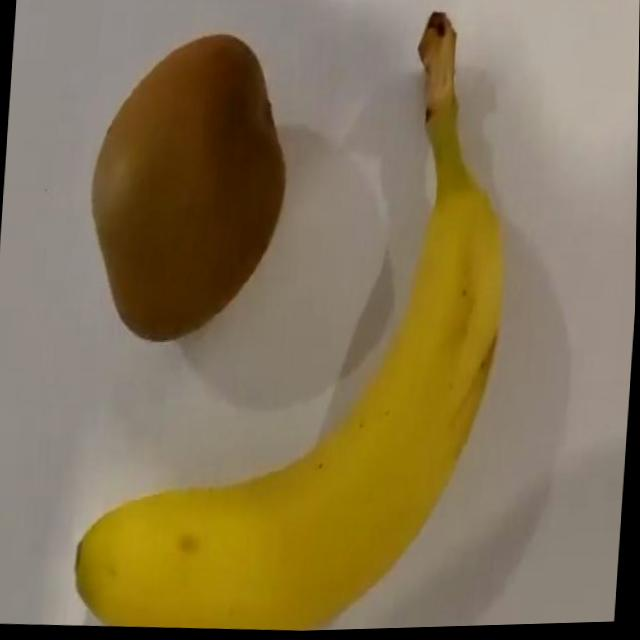Banana: (72, 0, 523, 638)
